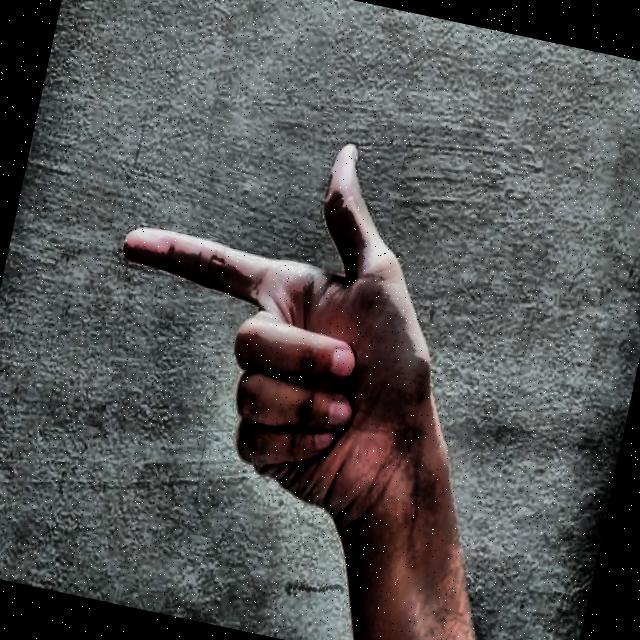Tho: (56, 55, 550, 567)
